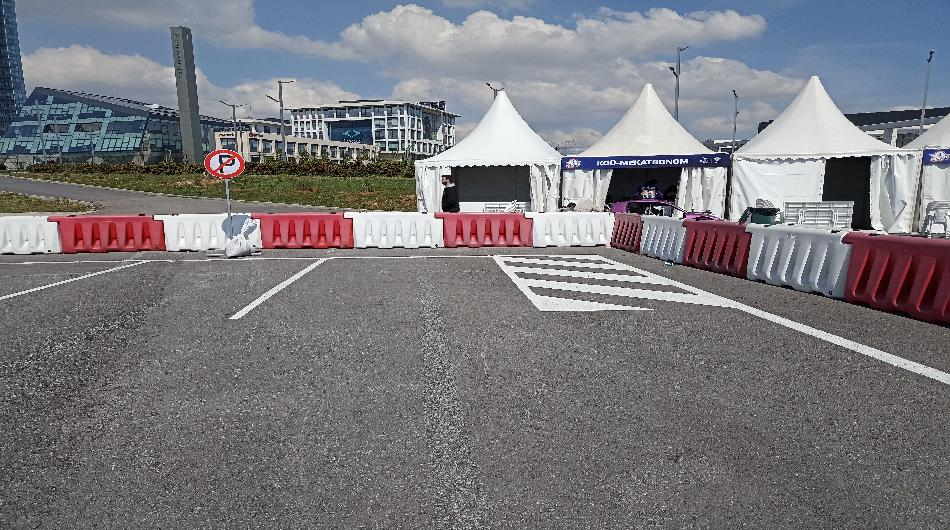park_yapilmaz_3: (206, 150, 244, 178)
park_yapilmaz_yerde: (492, 248, 759, 317)
